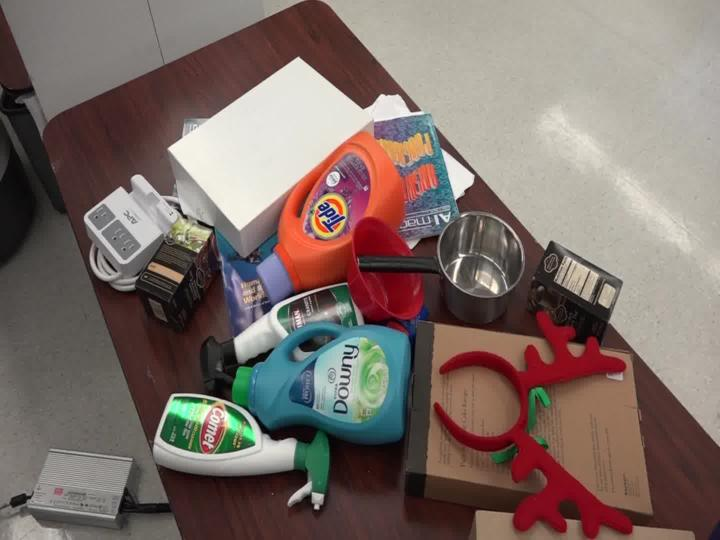downy: (211, 308, 426, 456)
